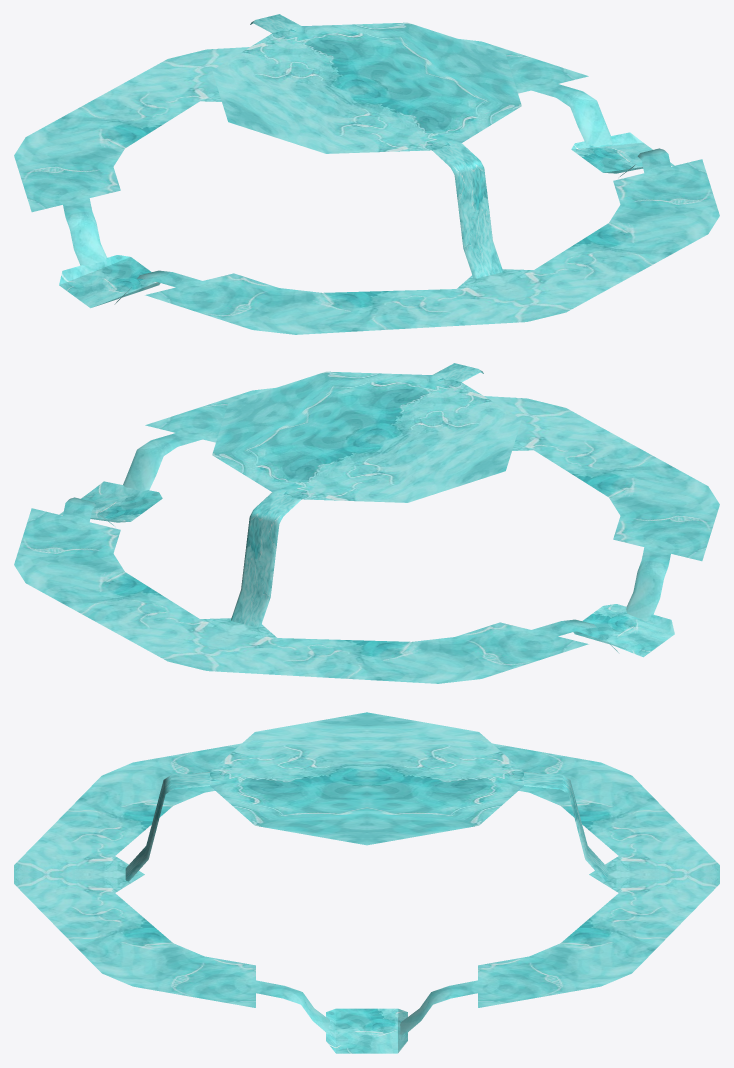
The model's file is entity383822.gltf.
3 renders of one model, top to bottom at view 1: azimuth 30°, elevation 25°; view 2: azimuth 150°, elevation 25°; view 3: azimuth 270°, elevation 25°, orthographic.
Visible parts, largest first — view 1: node_Str_Fountain_01_Water; view 2: node_Str_Fountain_01_Water; view 3: node_Str_Fountain_01_Water.
Part boxes in pixels (x1=…): node_Str_Fountain_01_Water: x1=14, y1=14, x2=719, y2=334; node_Str_Fountain_01_Water: x1=14, y1=363, x2=719, y2=683; node_Str_Fountain_01_Water: x1=14, y1=712, x2=719, y2=1053.
Size of the model in its own units: 4.41 by 1.04 by 4.7.
